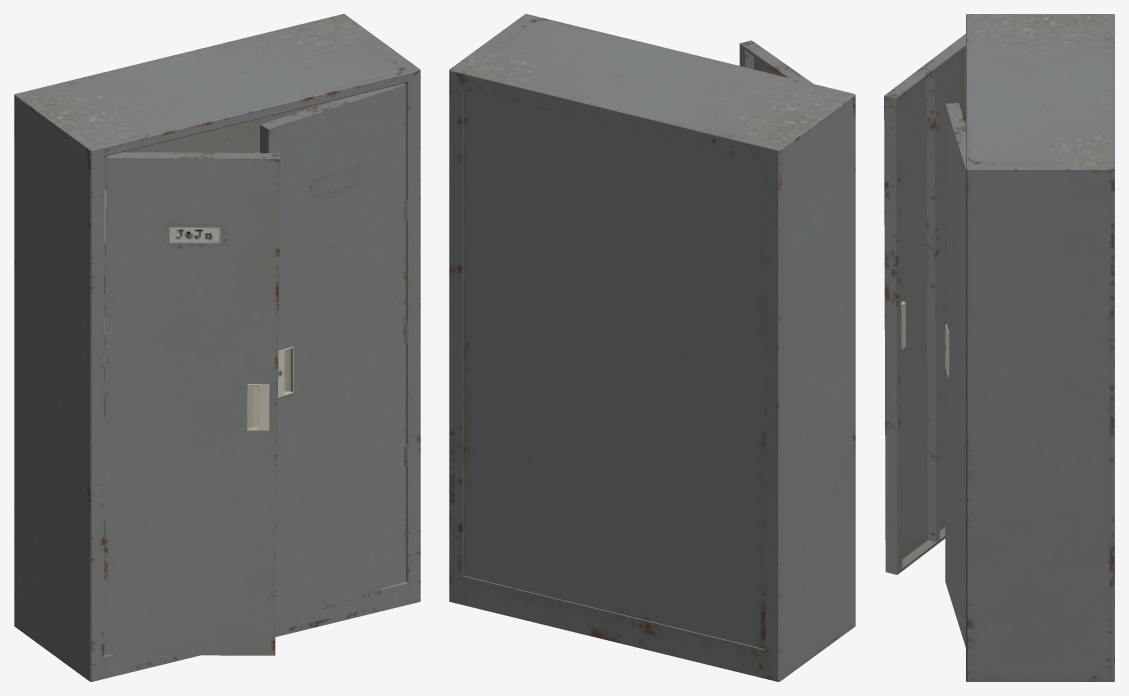
The model's file is 140_OfficeLocker.fbx.
3 renders of one model, left to right at view 1: azimuth 30°, elevation 25°; view 2: azimuth 150°, elevation 25°; view 3: azimuth 270°, elevation 25°, orthographic. The views are drawn at different scales.
Parts seen in each view (by area): view 1: LOD_1_Group_0_Sub_1__sm30_140_OfficeLocker01A_A_Mat; view 2: LOD_1_Group_0_Sub_1__sm30_140_OfficeLocker01A_A_Mat; view 3: LOD_1_Group_0_Sub_1__sm30_140_OfficeLocker01A_A_Mat.
Boxes of the visible parts, box(x1,y1,x2,y2) form: LOD_1_Group_0_Sub_1__sm30_140_OfficeLocker01A_A_Mat: box(14, 14, 420, 681); LOD_1_Group_0_Sub_1__sm30_140_OfficeLocker01A_A_Mat: box(449, 14, 855, 681); LOD_1_Group_0_Sub_1__sm30_140_OfficeLocker01A_A_Mat: box(884, 14, 1114, 681).
Size of the model in its own units: 1.33 by 2.05 by 0.8361.
